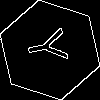Y: (25, 25, 78, 67)
